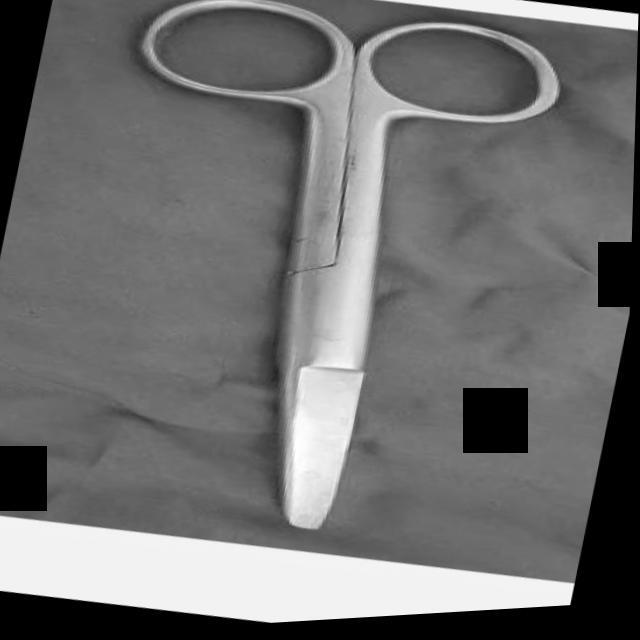Straight Mayo: (36, 0, 576, 581)
